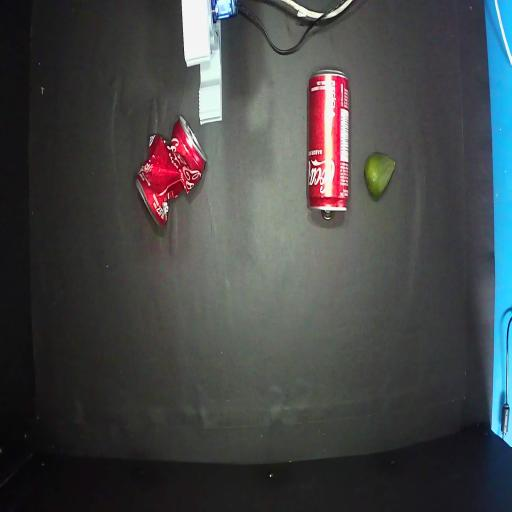higo: (364, 152, 395, 198)
lata: (307, 70, 349, 219)
lata_defectuoso: (136, 117, 206, 226)
